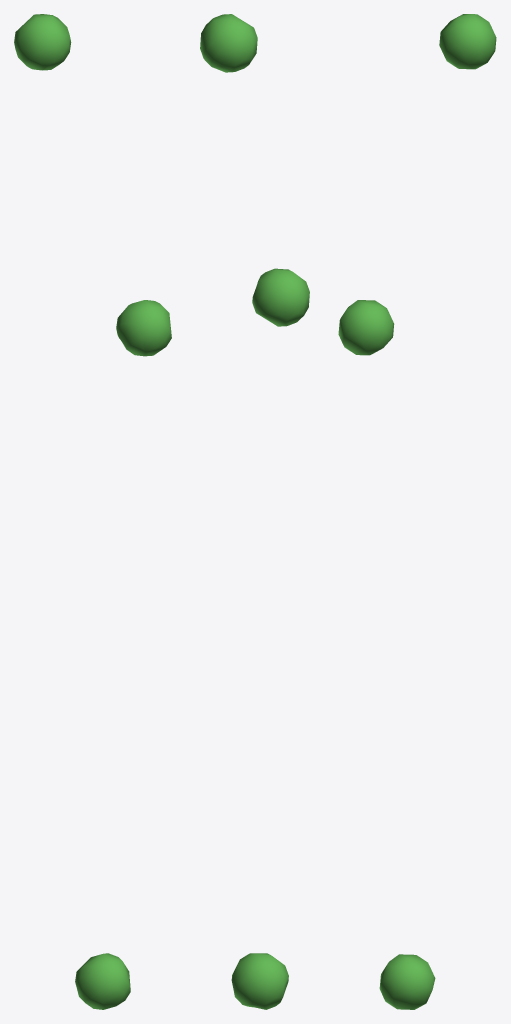
Rendered from linfatico-central-superior-mesenteric-nodes.glb.
3 renders of one model, left to right at view 1: azimuth 90°, elevation 25°; view 2: azimuth 150°, elevation 25°; view 3: azimuth 270°, elevation 25°, orthographic. The views are drawn at different scales.
Visible parts, largest first — view 1: Central superior mesenteric nodes; view 2: Central superior mesenteric nodes; view 3: Central superior mesenteric nodes.
Part boxes in pixels (<box>): Central superior mesenteric nodes: <box>14,14,171,1009</box>; Central superior mesenteric nodes: <box>200,14,309,1009</box>; Central superior mesenteric nodes: <box>338,14,496,1009</box>.
Bounding box in the file's own units: 0.00257 × 0.049 × 0.00708.
